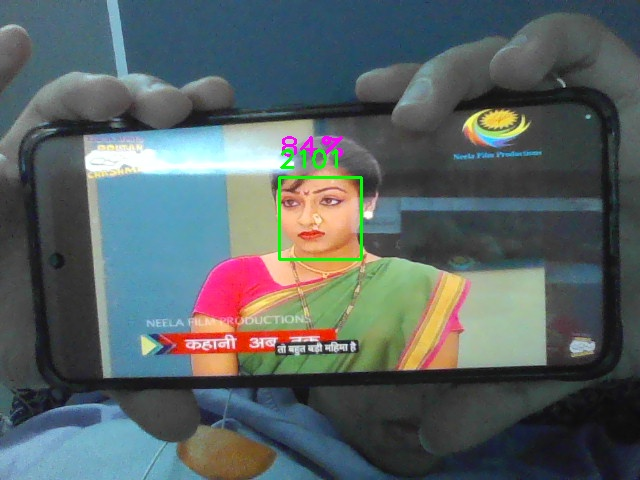fake: (279, 177, 362, 260)
